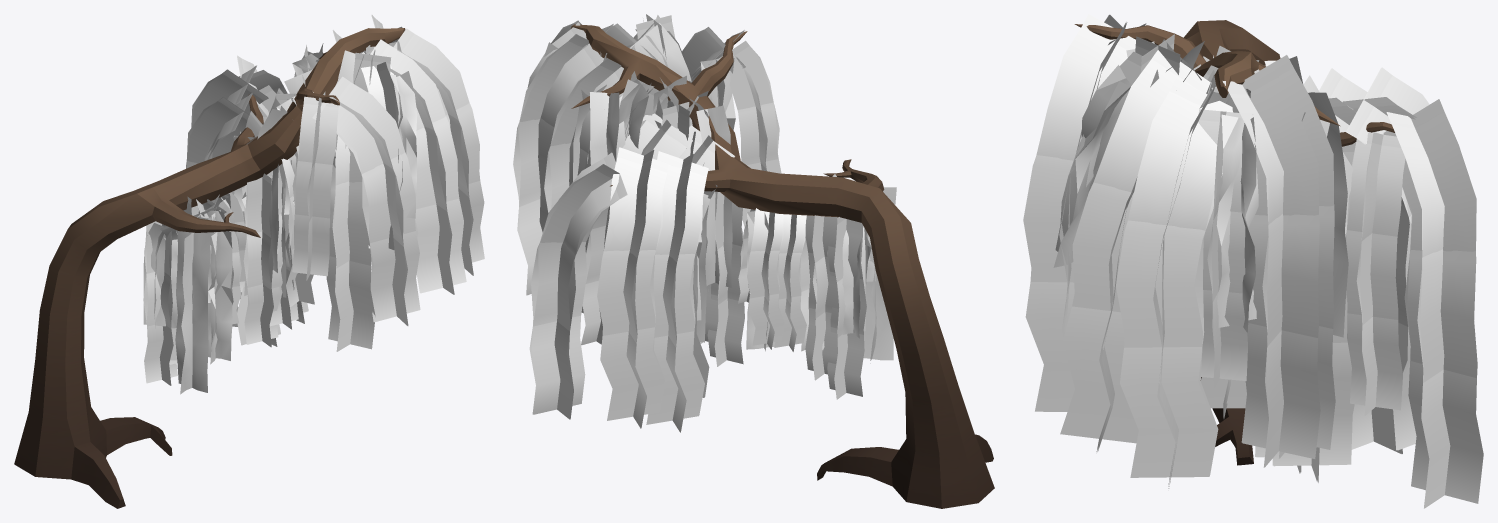
File: Trauerweide_groß.fbx
3 renders of one model, left to right at view 1: azimuth 30°, elevation 25°; view 2: azimuth 150°, elevation 25°; view 3: azimuth 270°, elevation 25°, orthographic. The views are drawn at different scales.
Parts seen in each view (by area): view 1: Plane.040; view 2: Plane.040; view 3: Plane.040.
Part boxes in pixels (<box>): Plane.040: <box>14,15,484,508</box>; Plane.040: <box>513,14,994,508</box>; Plane.040: <box>1023,14,1483,508</box>.
Bounding box in the file's own units: 474 × 374 × 276.
